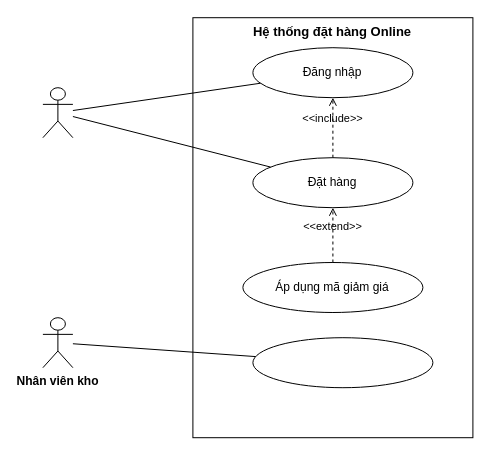
The diagram is 491 pixels wide and 455 high, and some of its shapes have lost their labels. The box of each missing label's shape, as (x1, y1, x2, y2) in pixels:
Cập nhật tồn kho: (252, 337, 433, 388)
Khách hàng: (42, 87, 73, 138)
